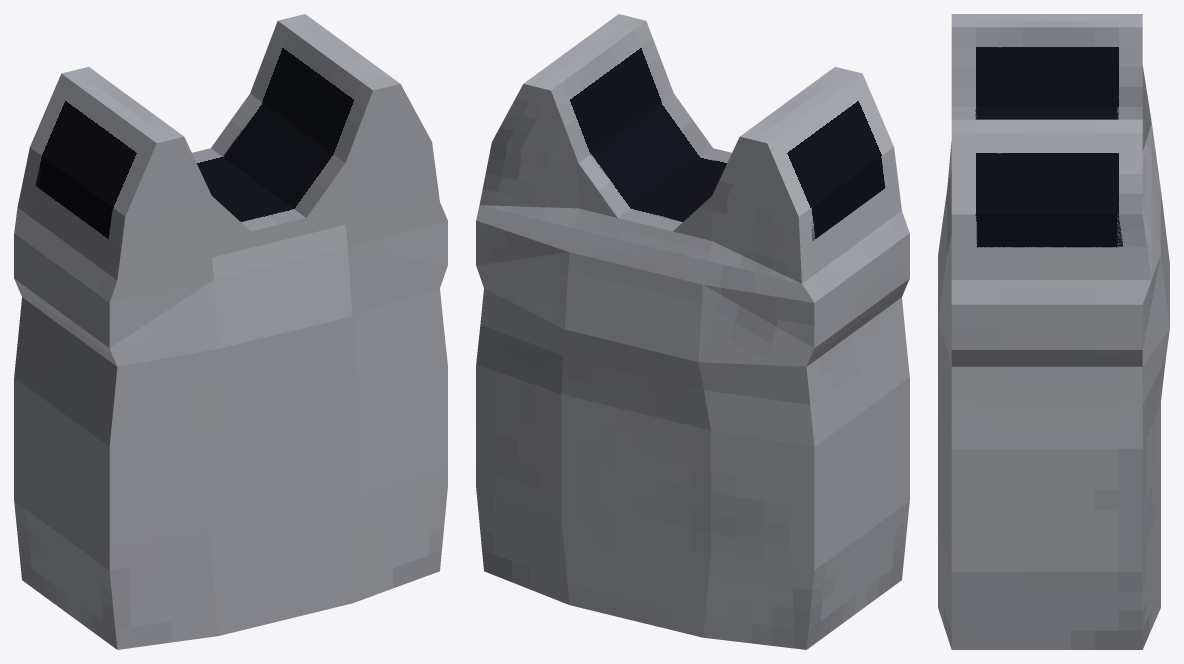
3 renders of one model, left to right at view 1: azimuth 30°, elevation 25°; view 2: azimuth 150°, elevation 25°; view 3: azimuth 270°, elevation 25°, orthographic.
Parts seen in each view (by area): view 1: body, body_flat; view 2: body, body_flat; view 3: body, body_flat.
Part boxes in pixels (x1,y1,x2,y2): body: [14, 14, 447, 649]; body_flat: [23, 94, 303, 278]; body: [476, 14, 909, 649]; body_flat: [579, 94, 900, 272]; body: [938, 14, 1169, 649]; body_flat: [954, 107, 1140, 279].
Bounding box in the file's own units: 0.5375 × 0.7688 × 0.3187.
1 material, 1 textured.
